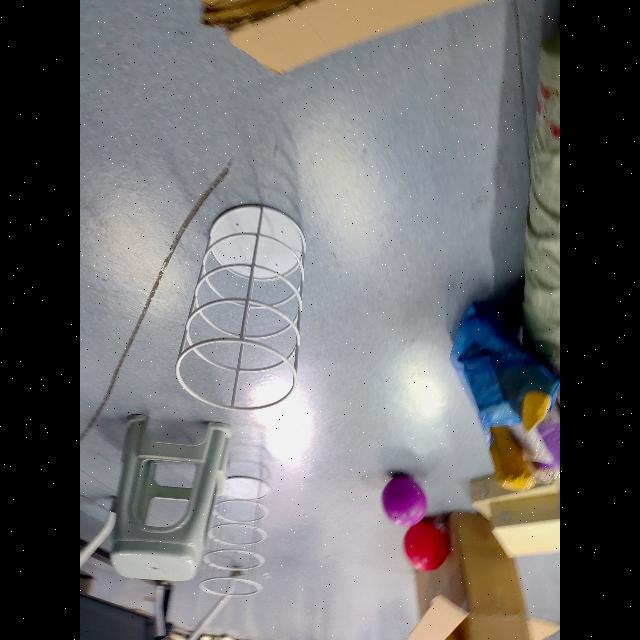S: (174, 212, 304, 412)
